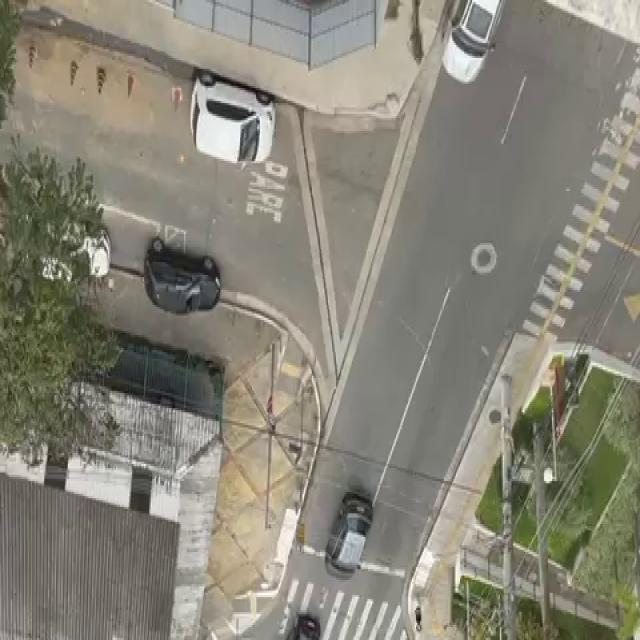car: (185, 60, 282, 177), (433, 0, 512, 84), (140, 240, 225, 318), (18, 214, 114, 280), (322, 494, 377, 580), (286, 613, 324, 640)
